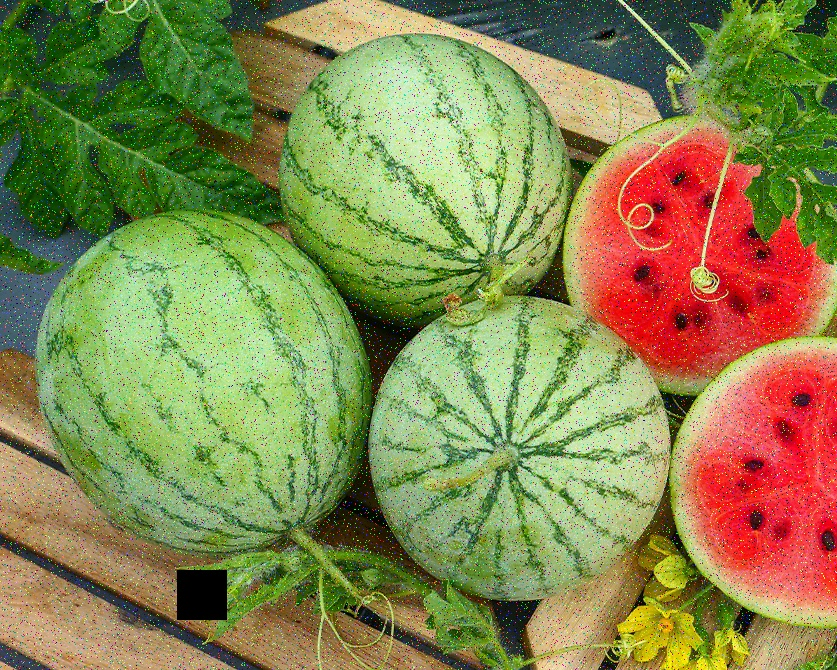watermelon: (32, 218, 370, 555), (375, 293, 671, 616), (270, 33, 568, 312)
